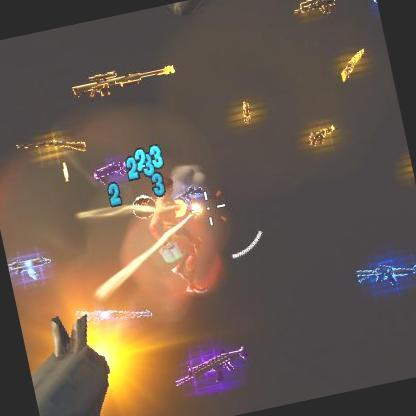person: (150, 189, 212, 295)
